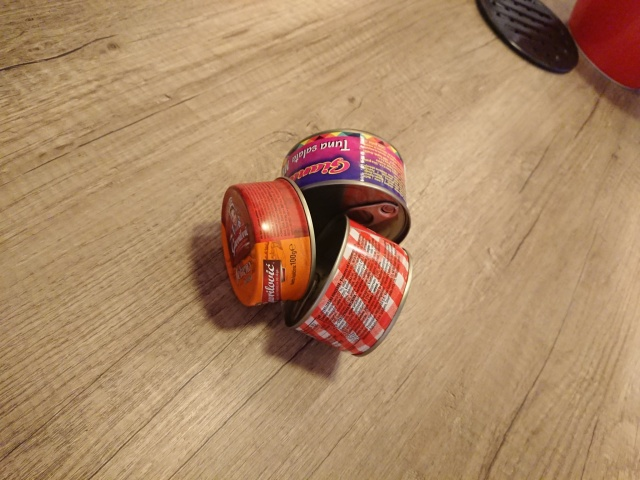Gavrilovic Pork Liver Pate 100g: (219, 174, 319, 309)
Giana Tuna Salad Mexico 185g: (278, 126, 414, 268)
Podravka Luncheon Meat 150g: (281, 209, 416, 361)
